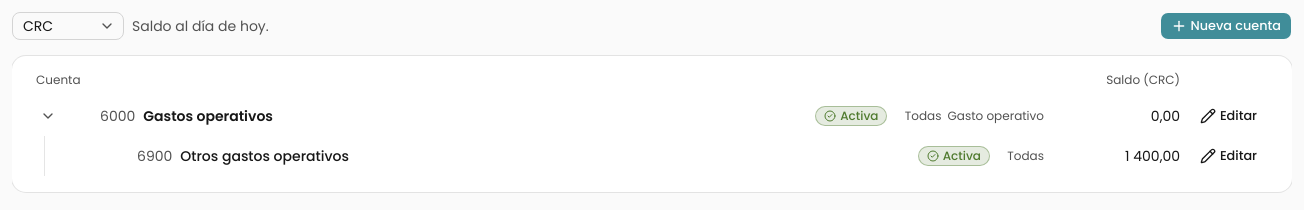
FinanceAccountsTree — el árbol se pliega y se despliega › arranca entero a la vista y esconde la rama al plegarla
Click the button named "Plegar Gastos operativos" at (48, 116), box [36,104,60,128]
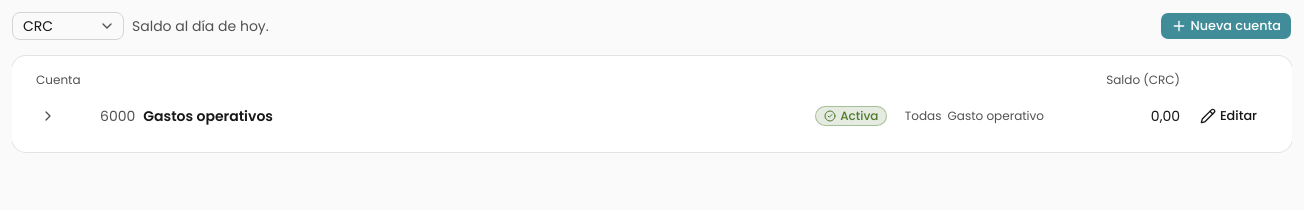
Expected: the list item "6000 Gastos operativos" is collapsed, [28,96,1276,136]
Expected: the list item "6900 Otros gastos operativos" is gone
